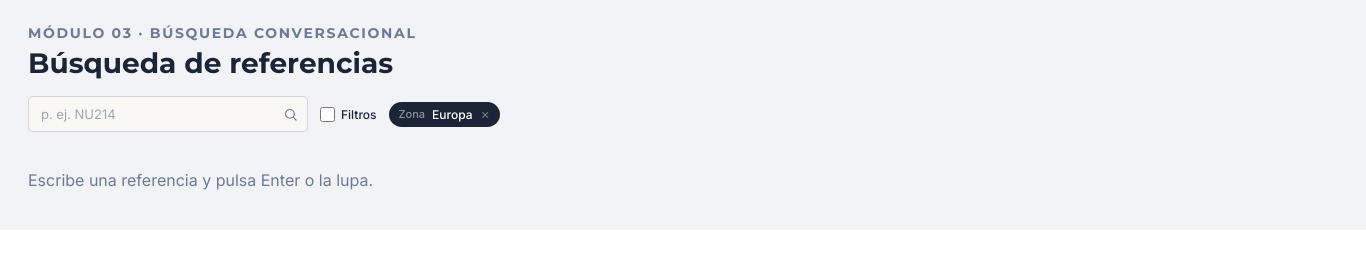
Scenario: REF obligatoria › vacía, o vacía al normalizar, no lanza la búsqueda y lo dice
Type " -- " into the search field named "Referencia".
click(168, 114); type(" -- ")  # box [28,96,308,132]
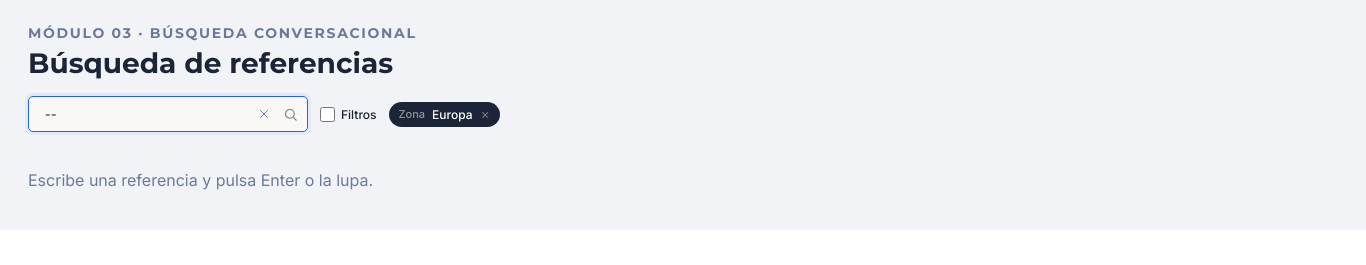
Click the button named "Buscar referencia".
click(290, 114)  # box [276,100,304,128]
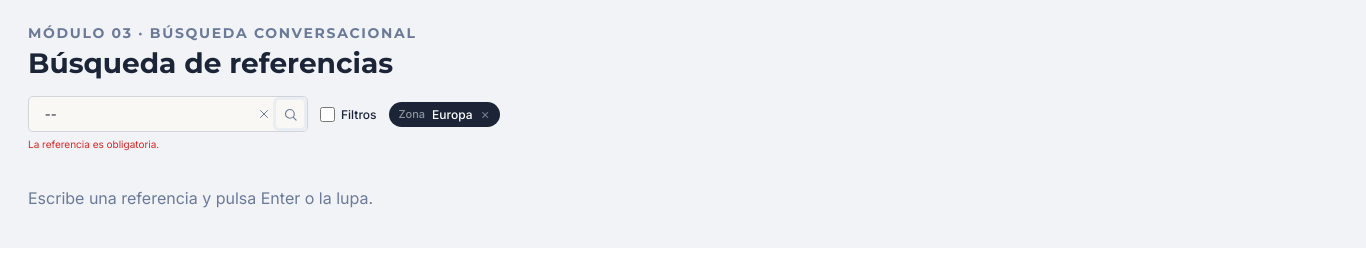
expect the message reads "La referencia es obligatoria.": met, box [28,138,159,150]
